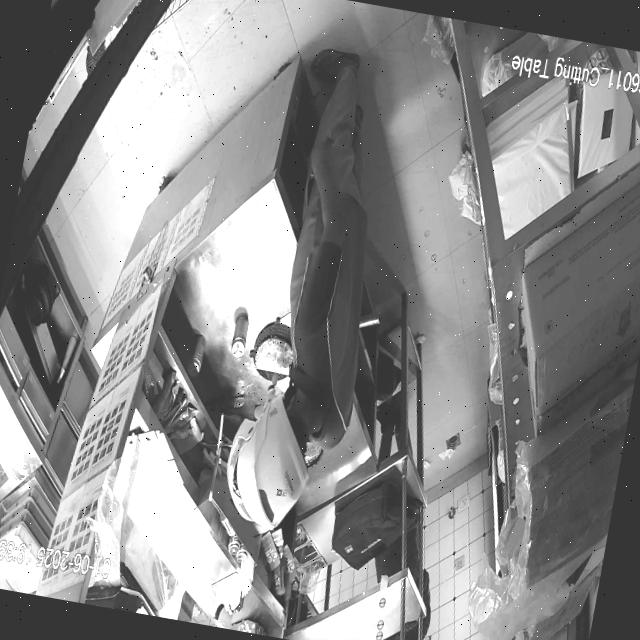helmet: (225, 397, 308, 527)
